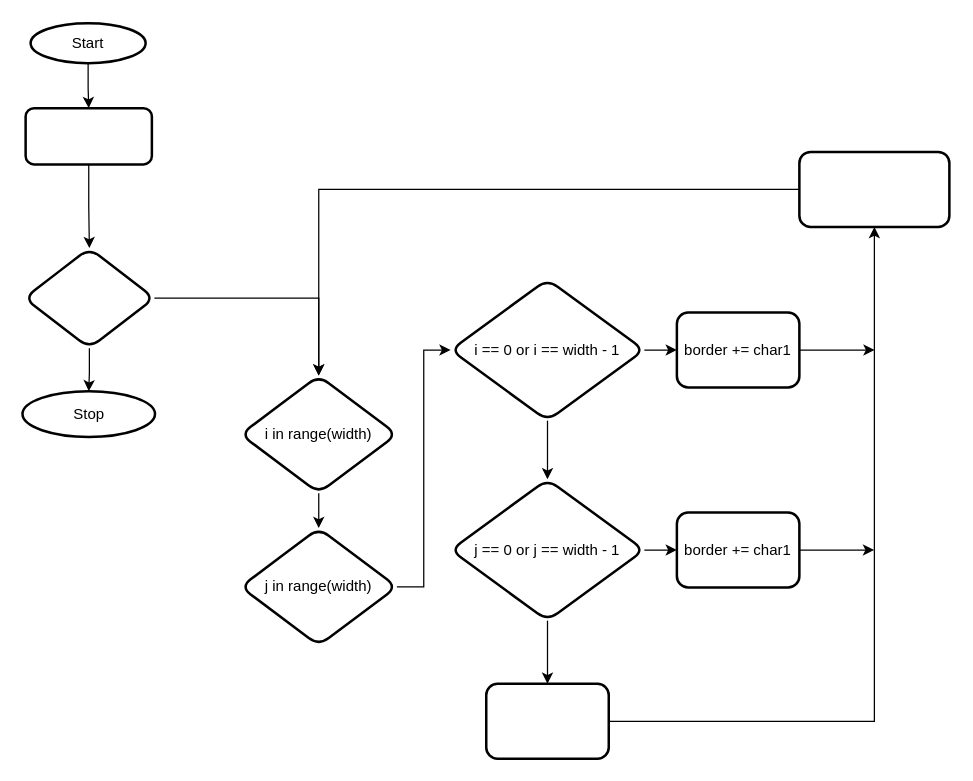
The diagram is 973 pixels wide and 781 high, and some of its shapes have lost their labels. The shapes that lost their labels are listed below. From the top down, each one's box as (x1, y1, x2, y2) in pixels, then its label:
(24, 106, 152, 165): border = str()
(798, 150, 950, 228): border += '\n'
(22, 246, 155, 349): char1 in char
(484, 682, 609, 759): border += ' '
